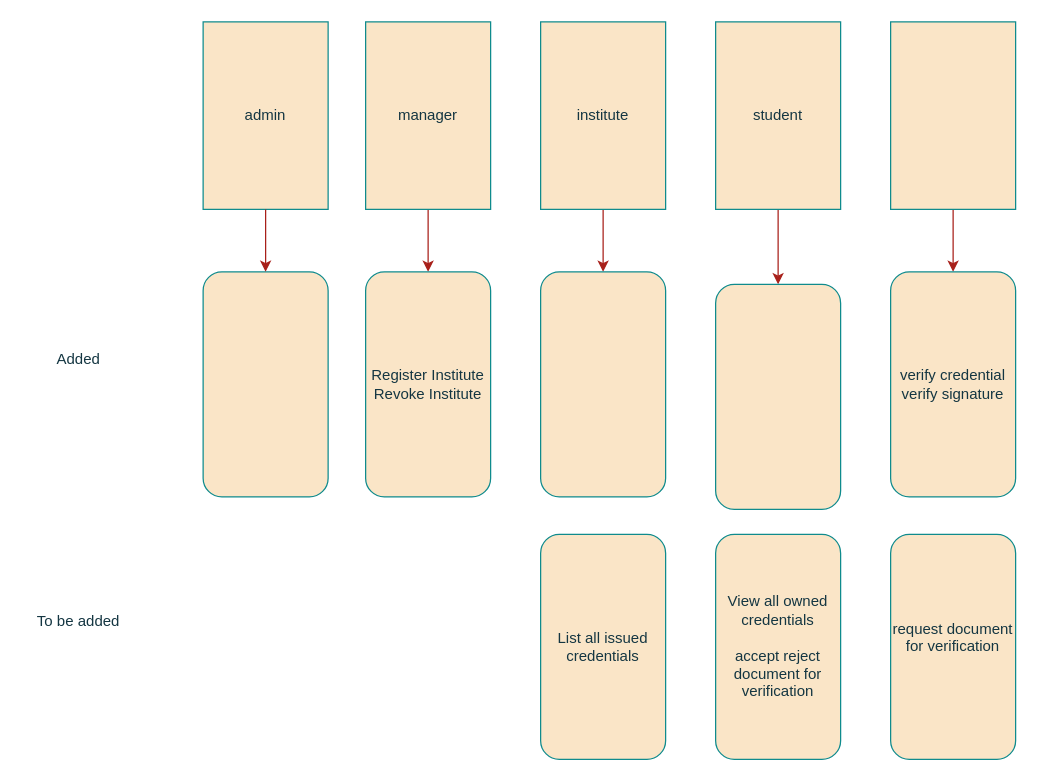
The diagram is 1038 pixels wide and 781 high, and some of its shapes have lost their labels. Each missing label, with the centre of its shape:
Any account: point 952,115
Issue Credential Revoke Credential: point 602,384
No func (as of now): point 777,396
Register Manager Revoke Manager: point 265,384
